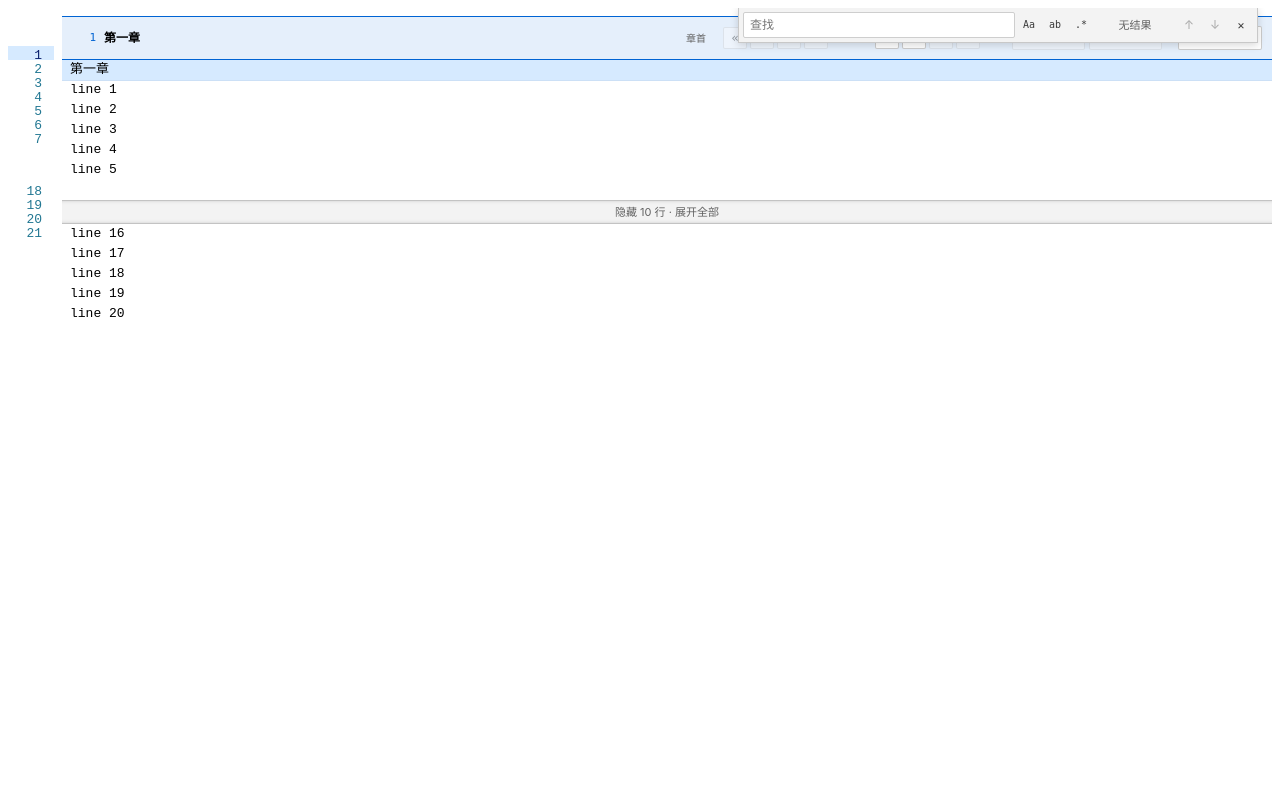
Test: chapter CodeMirror editor › 搜索命中折叠正文时先从近侧展开，再选择并滚动匹配项
The width and height of the screenshot is (1280, 800).
Type "line 8" into the field with class "cm-chapter-search-panel__input".
click(879, 25); type("line 8")  # box [743, 12, 1015, 38]
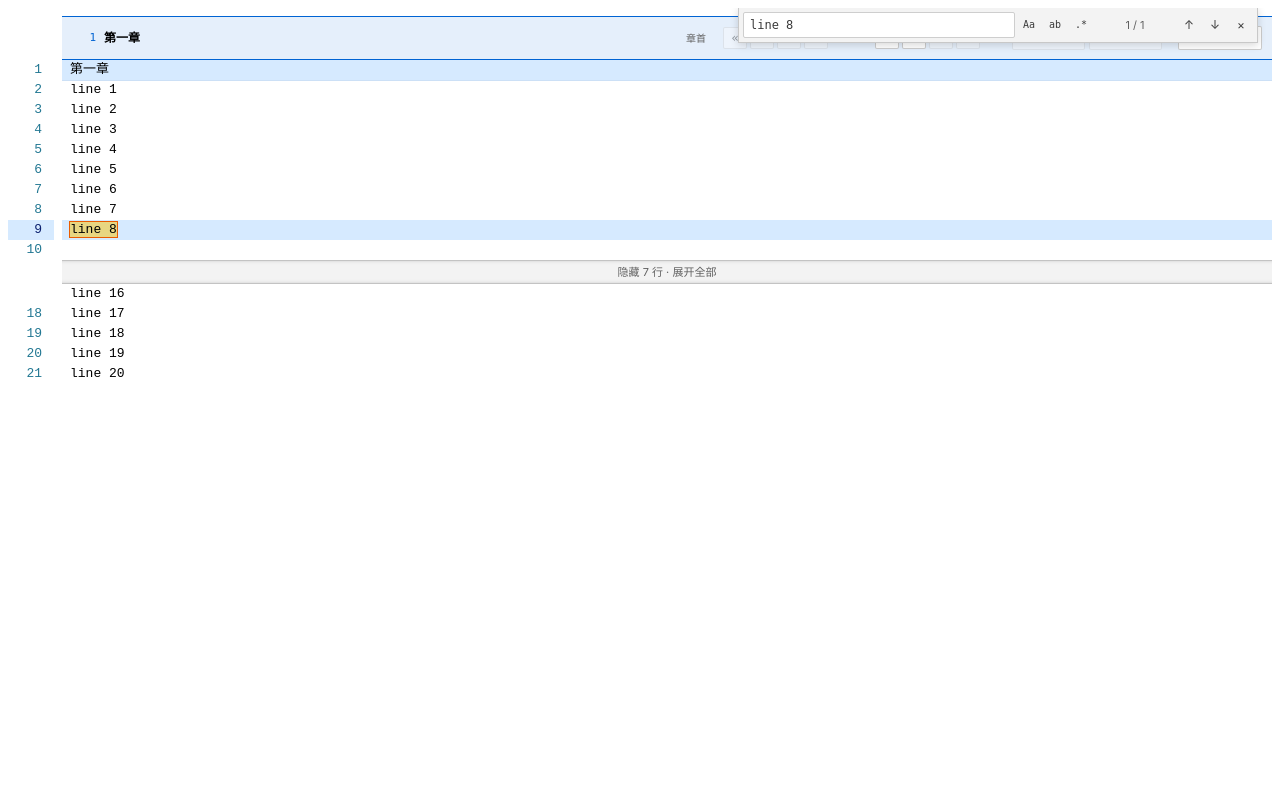
Expected: the text box labelled "line 8" is shown, [70, 222, 117, 237]
